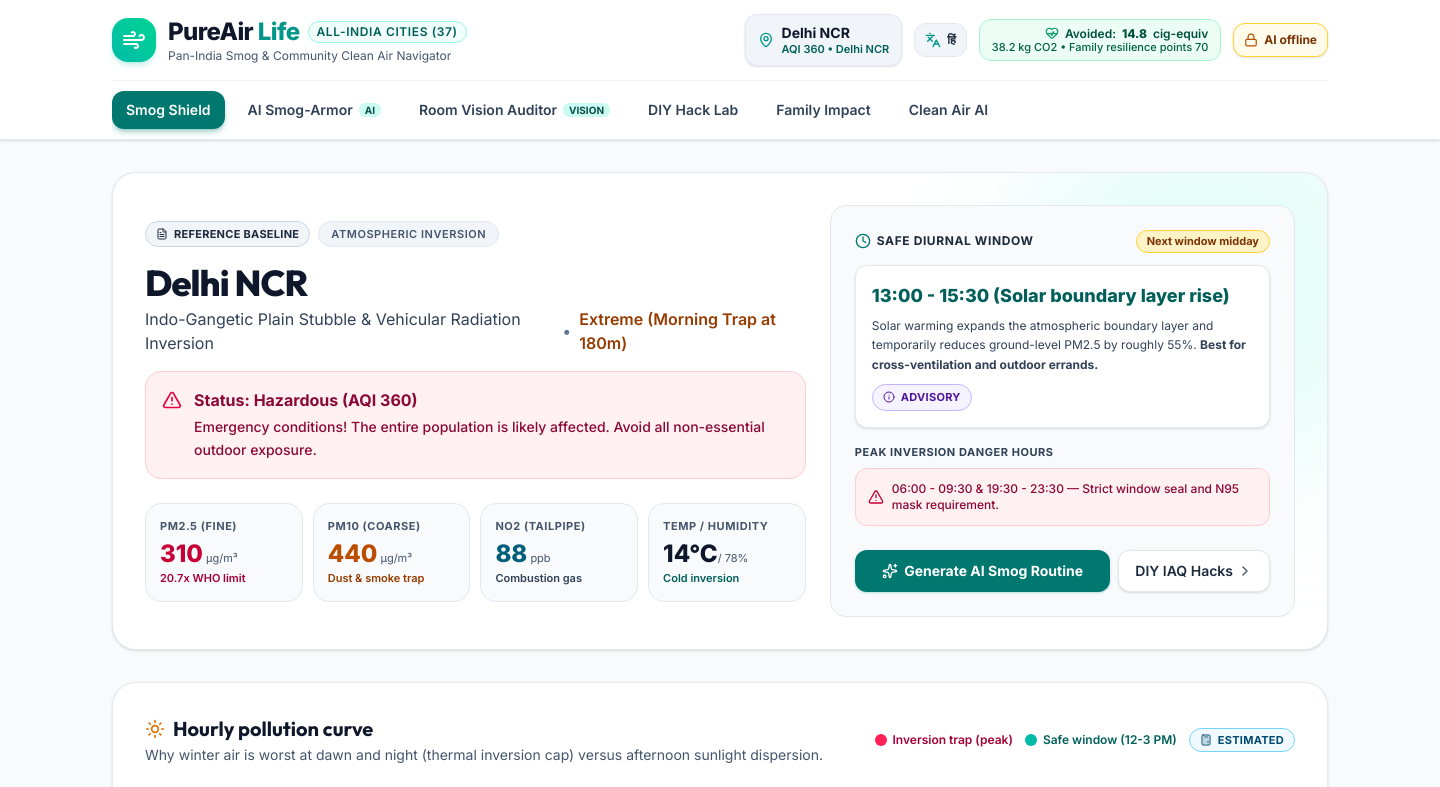
Test: Navigation › switches workspaces when a tab is activated
Click the tab "Clean Air AI". click: (948, 110)
box: left=894, top=91, right=1003, bottom=129
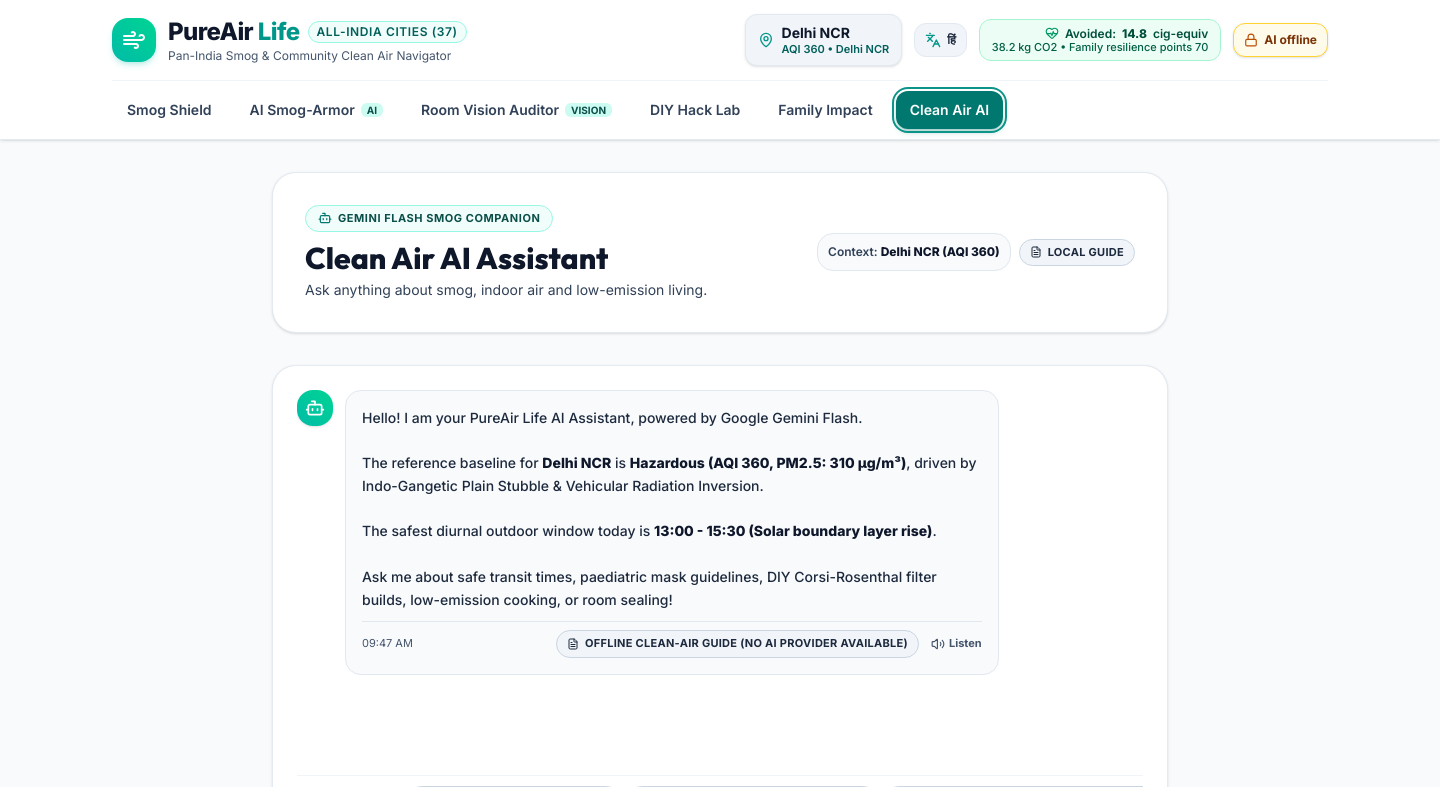
Expected: the heading "Clean Air AI Assistant" is shown, left=305, top=238, right=608, bottom=276
